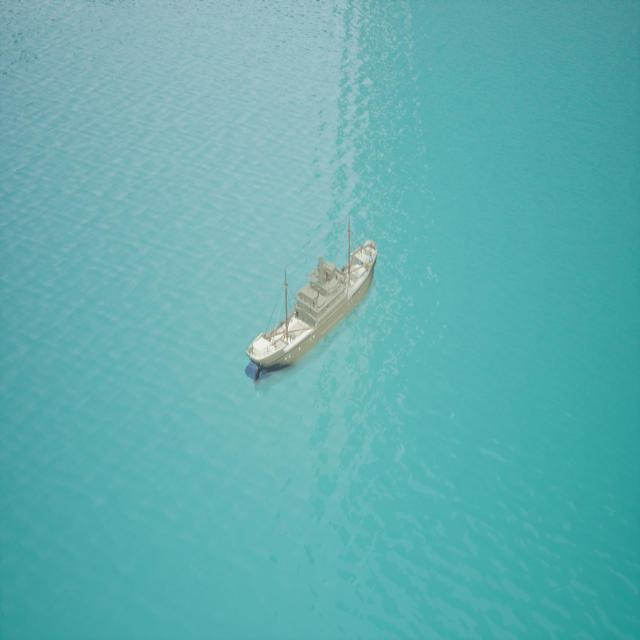fishing ship: (248, 244, 378, 374)
